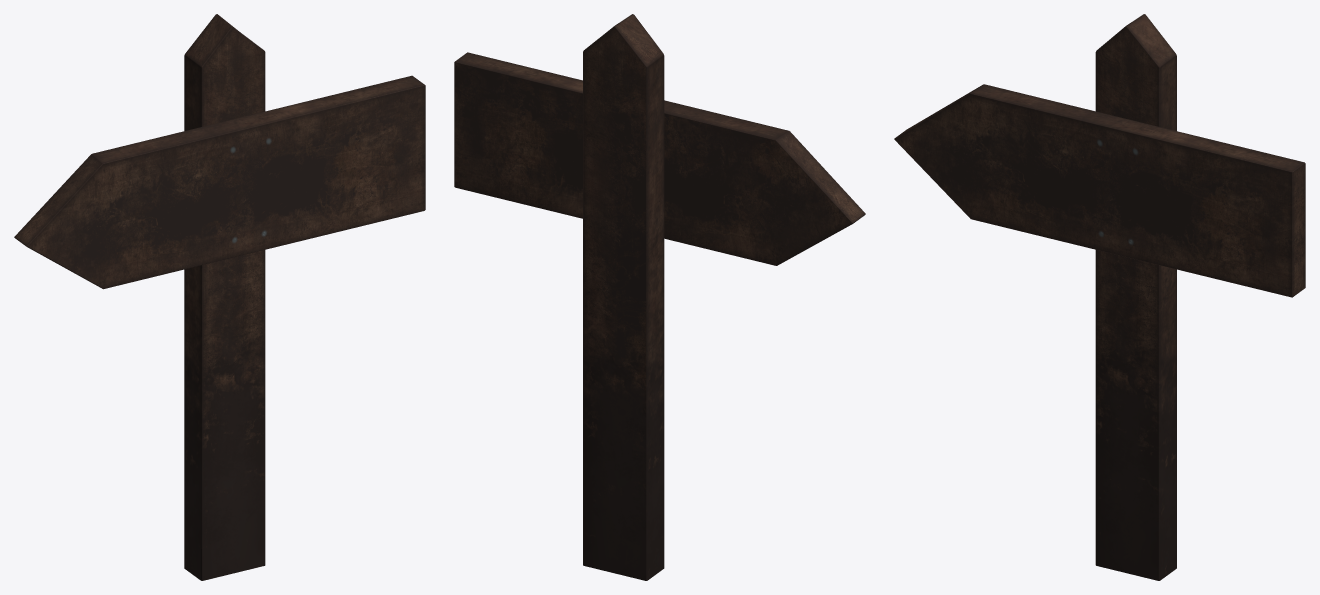
Rendered from little_post_fbx.glb.
3 views of the same model, side by side, from view 1: azimuth 30°, elevation 25°; view 2: azimuth 150°, elevation 25°; view 3: azimuth 330°, elevation 25° (orthographic).
Visible parts, largest first — view 1: pCube2, pCube1; view 2: pCube1, pCube2; view 3: pCube2, pCube1.
Part boxes in pixels (x1,y1,x2,y2): pCube2: [14, 75, 425, 289]; pCube1: [184, 14, 265, 580]; pCube1: [583, 14, 664, 580]; pCube2: [454, 52, 865, 265]; pCube2: [894, 84, 1305, 297]; pCube1: [1095, 14, 1176, 580].
Bounding box in the file's own units: 140 × 183 × 19.01.
Materials: 1 (1 with a texture image).
